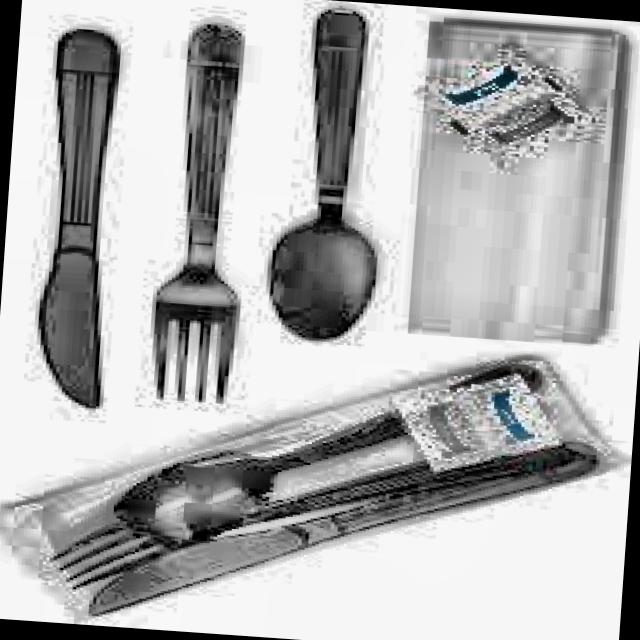plastic utensil: (269, 10, 375, 339), (156, 24, 243, 401), (39, 30, 119, 408)
